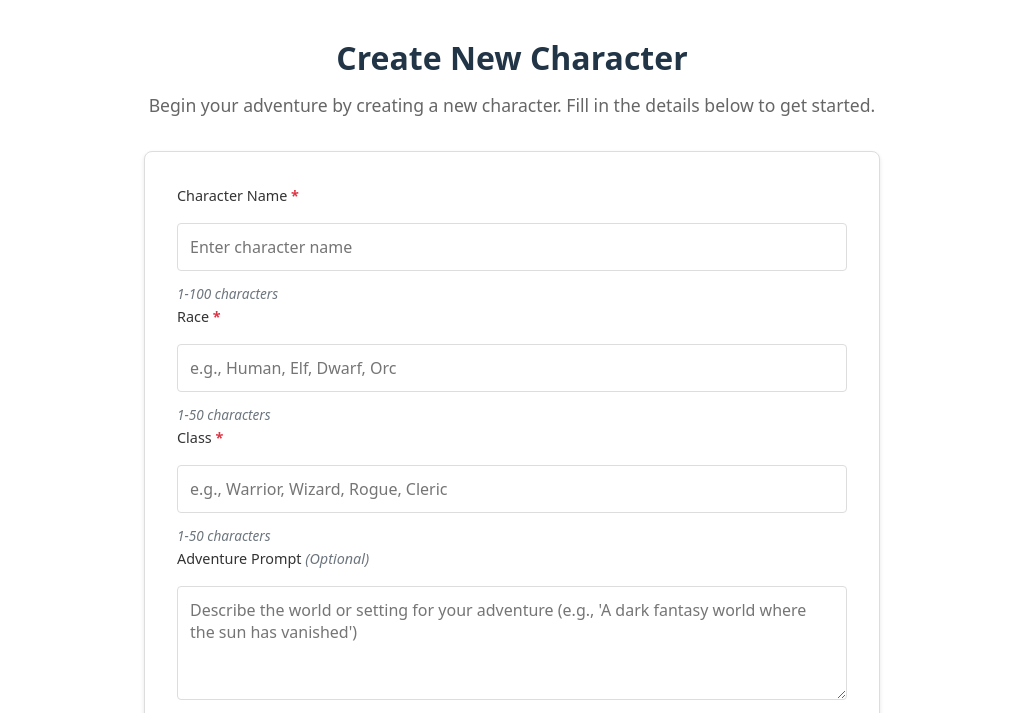
Test: NewCharacterPage › Client-side Validation › shows error when race is empty
Type "Test Hero" into the field labelled "Character Name *". click: x=512, y=247
box: [177, 223, 847, 271]
(page scrolled)
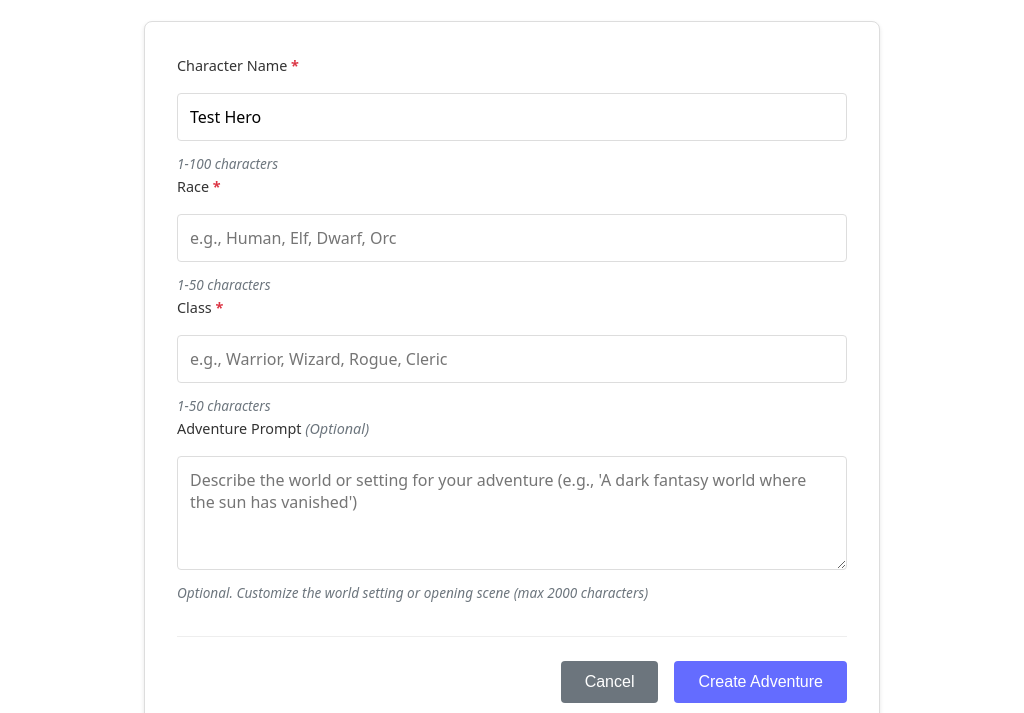
Click the button "Create Adventure". click: x=761, y=682
box: [674, 660, 847, 702]
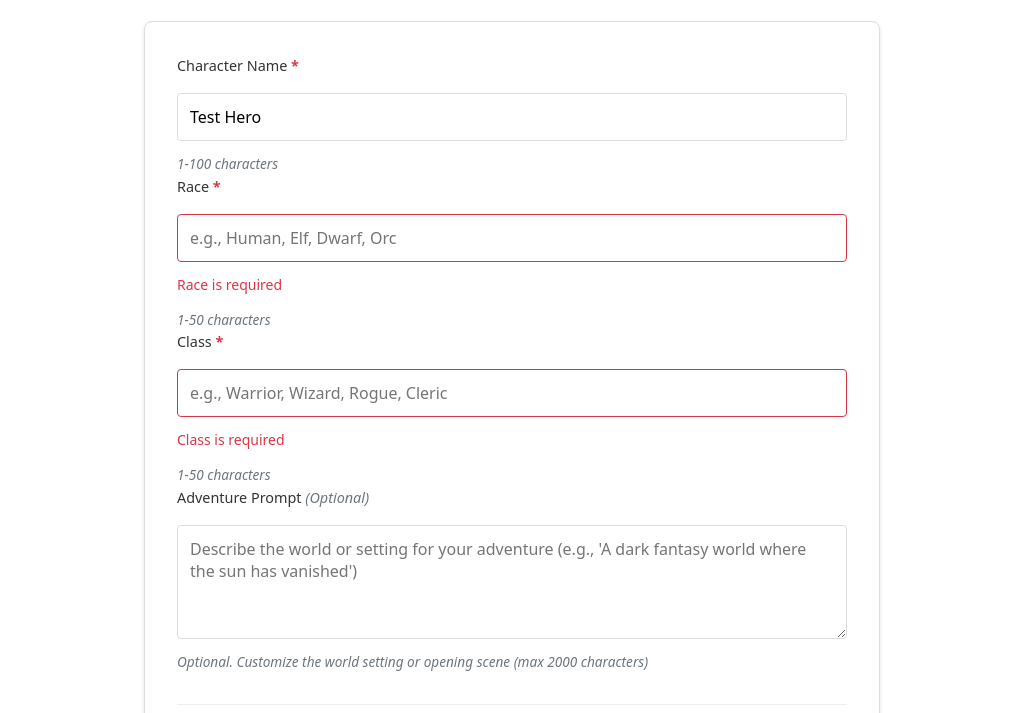
Expected: the text "Race is required" is shown, [177, 275, 282, 294]
